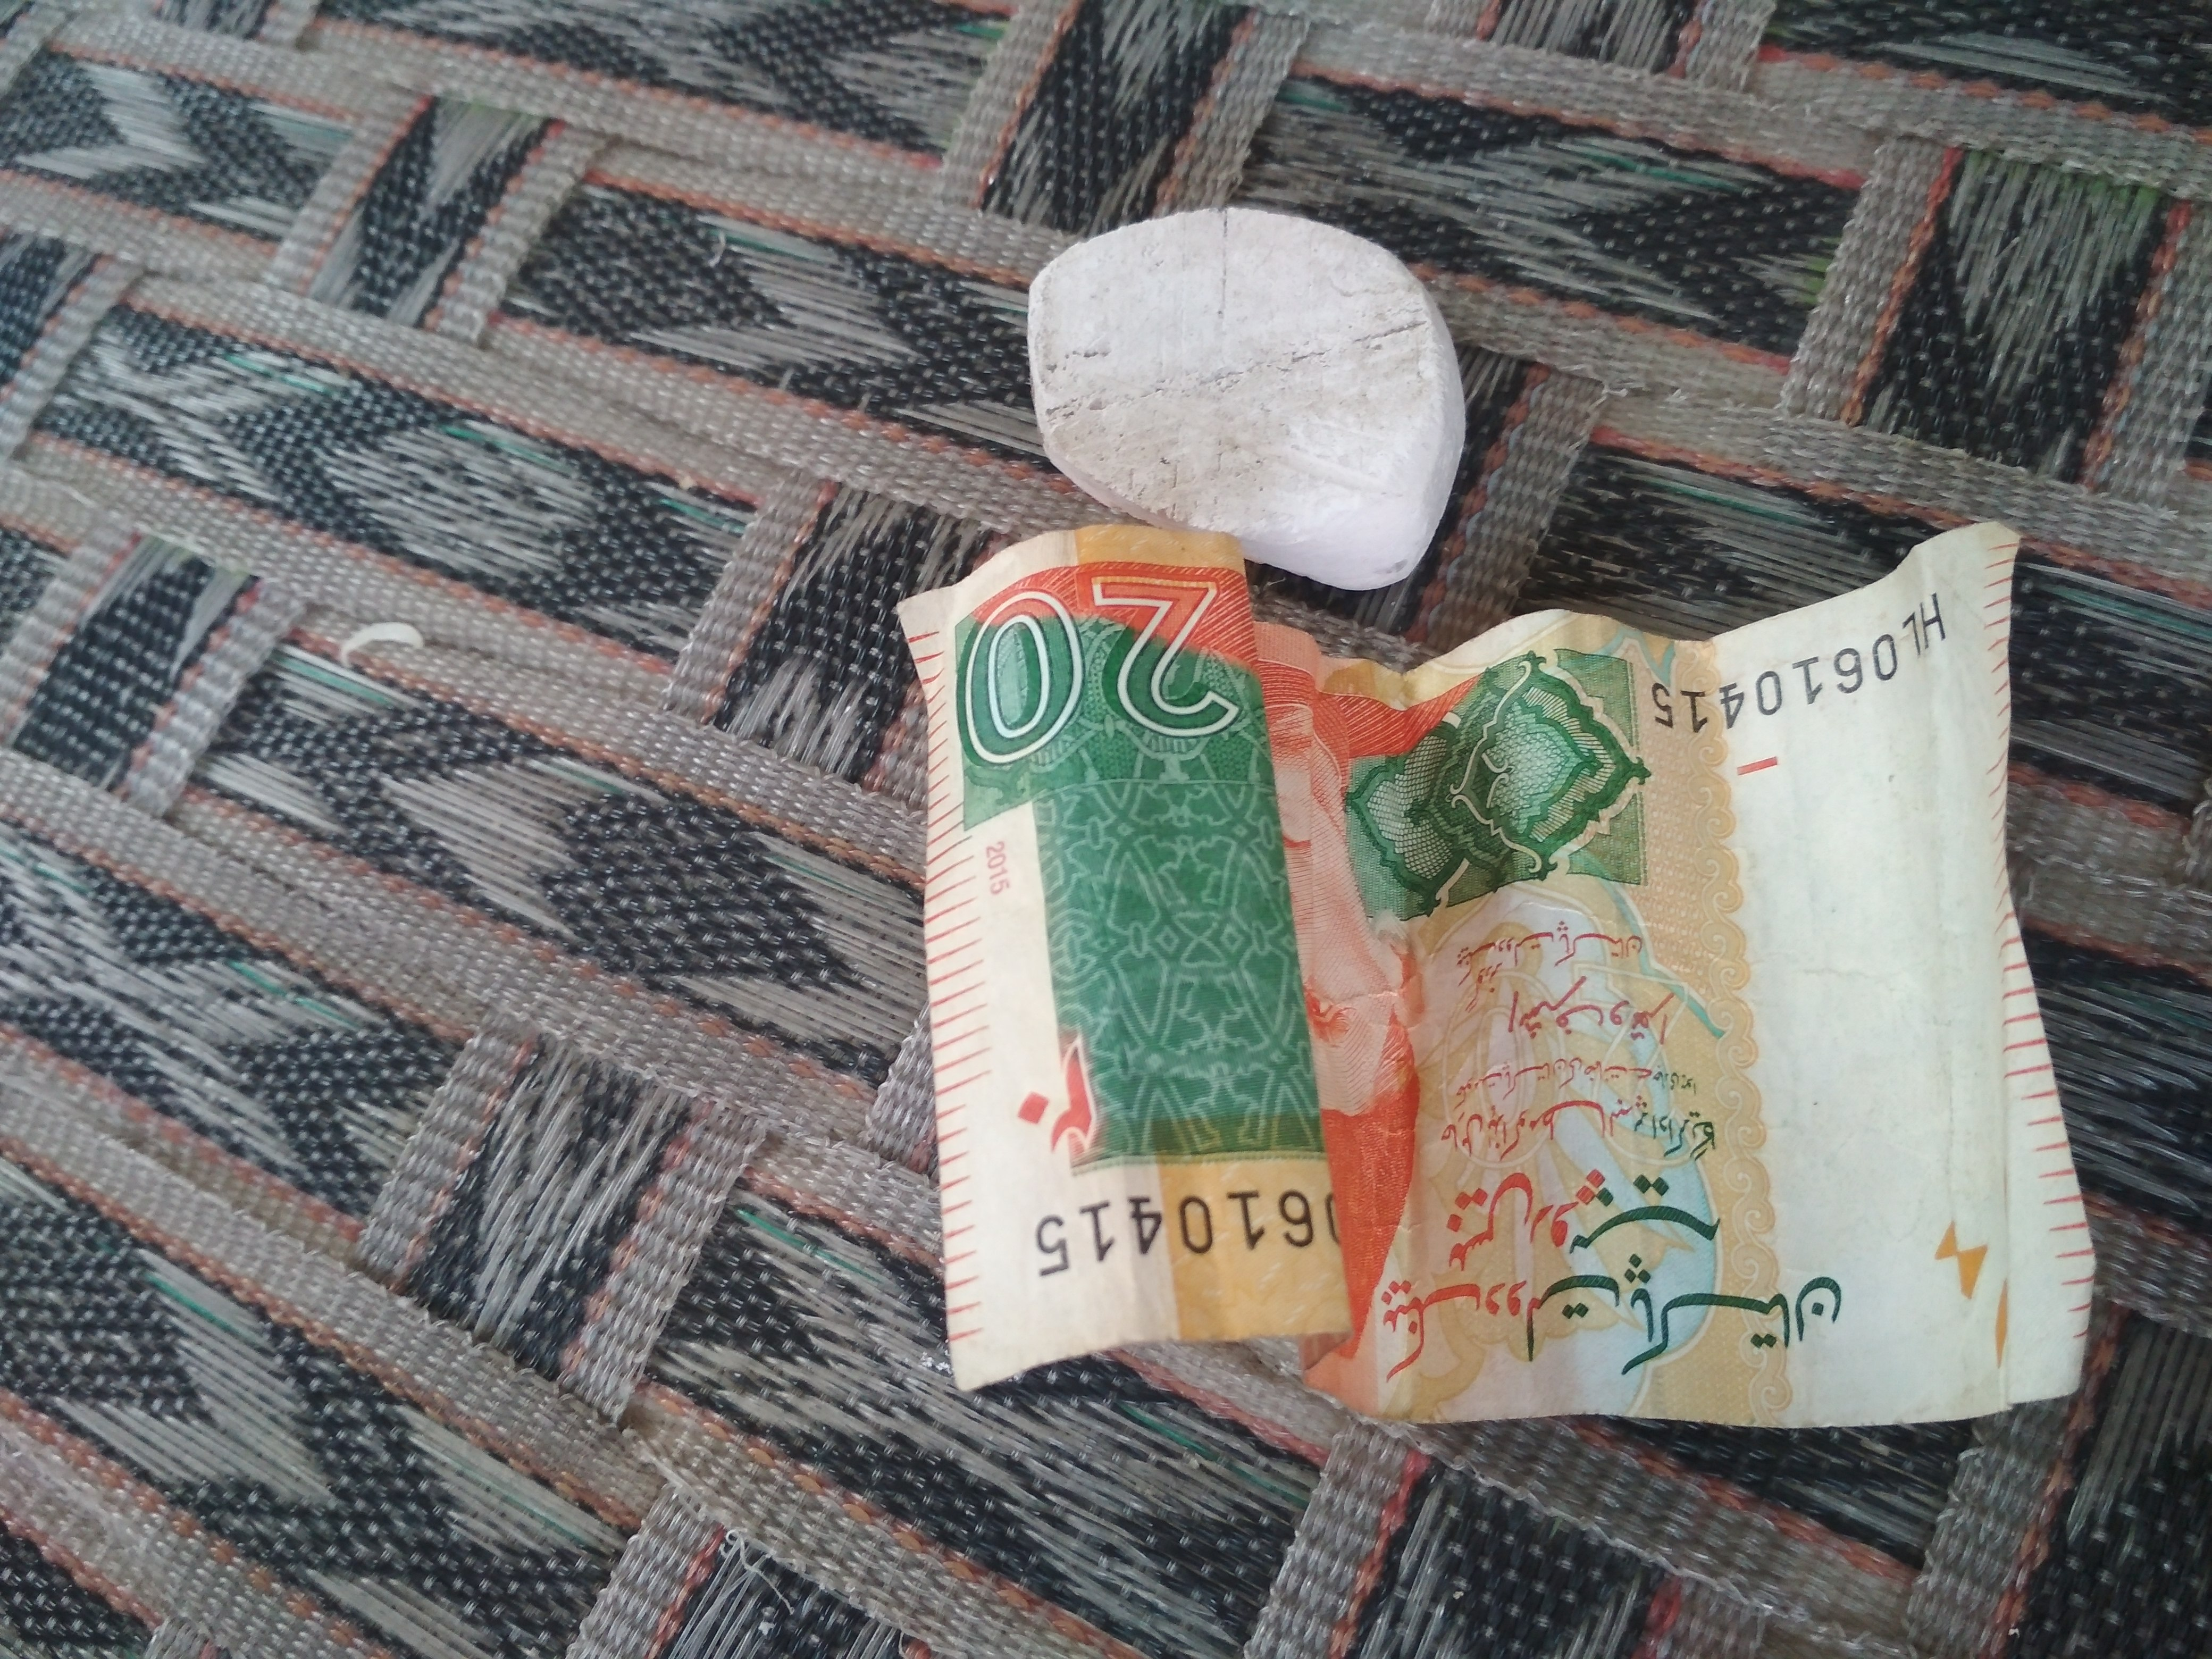20 rupee: (742, 516, 2090, 1528)
